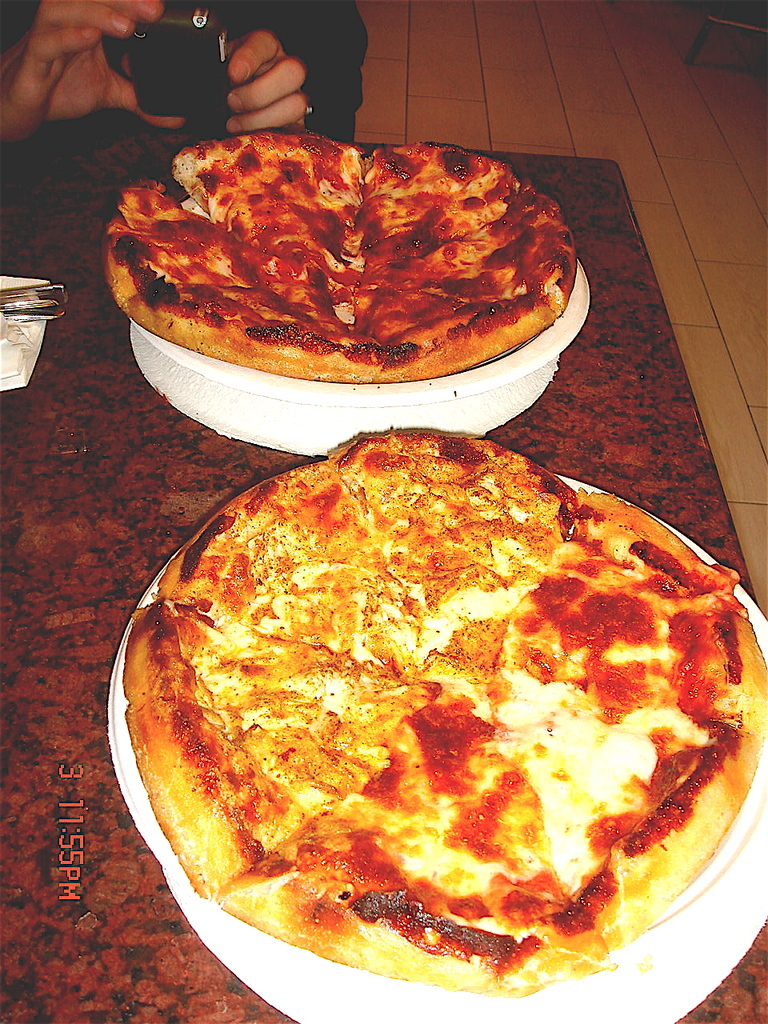Pizza: (132, 444, 768, 1002), (100, 135, 576, 383)
